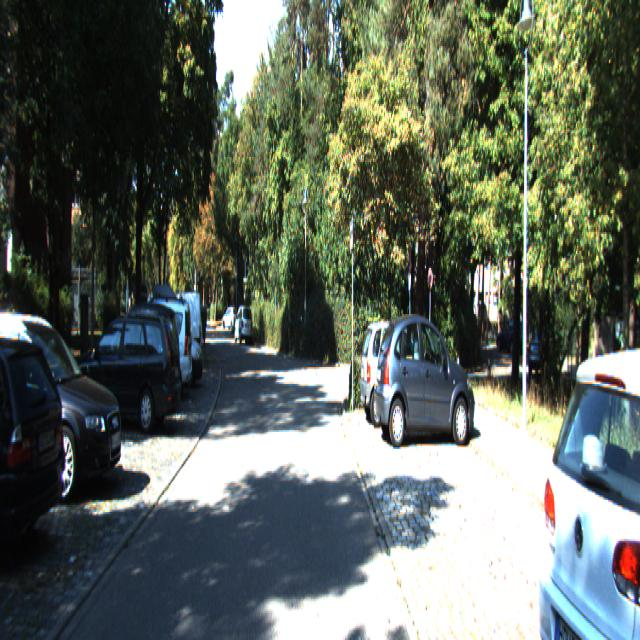Car: (522, 333, 640, 638), (0, 308, 128, 506), (0, 323, 72, 576), (68, 303, 182, 434), (374, 309, 476, 450), (358, 315, 442, 431), (109, 294, 193, 404), (150, 291, 202, 369), (234, 305, 253, 345)
